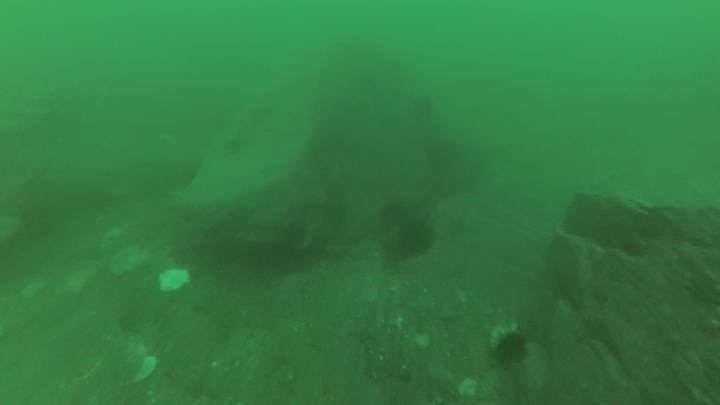echinus: (492, 327, 532, 370), (396, 221, 435, 263), (380, 196, 411, 232)
scallop: (116, 340, 161, 392), (108, 239, 151, 281), (158, 265, 192, 298)
